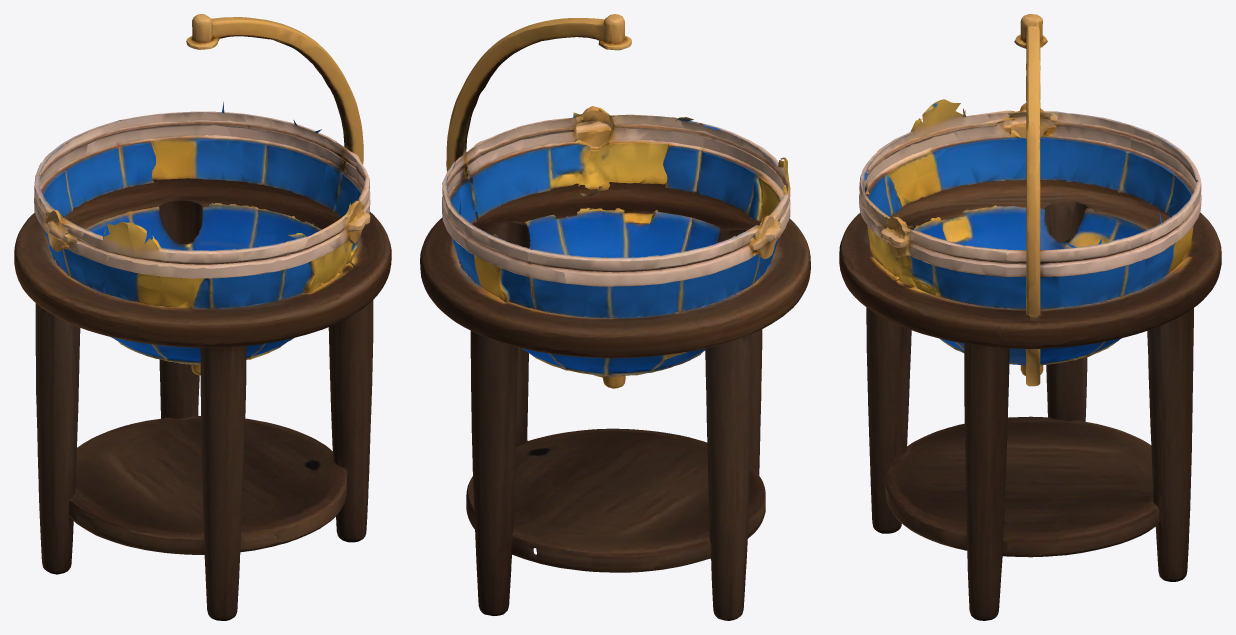
The model's file is stand_and_bottom_half.glb.
3 views of the same model, side by side, from view 1: azimuth 30°, elevation 25°; view 2: azimuth 150°, elevation 25°; view 3: azimuth 270°, elevation 25° (orthographic). The views are drawn at different scales.
Parts seen in each view (by area): view 1: geometry_0; view 2: geometry_0; view 3: geometry_0.
Boxes of the visible parts, x1,y1,x2,y2 form: geometry_0: [14, 14, 391, 620]; geometry_0: [420, 14, 810, 620]; geometry_0: [839, 14, 1221, 620].
Bounding box in the file's own units: 0.5447 × 0.85 × 0.5458.
Materials: 1 (1 with a texture image).
